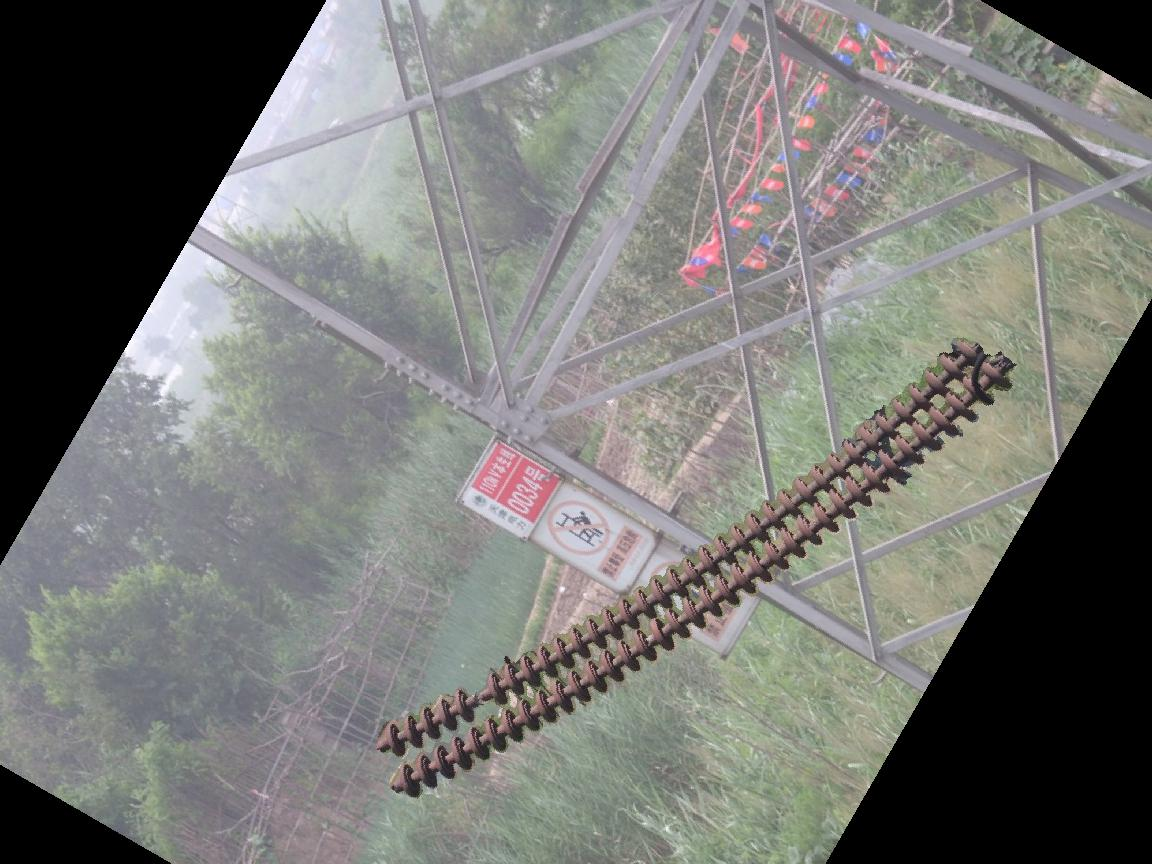insulator: (376, 331, 1017, 802)
insulator_stringdrop: (451, 668, 512, 722)
